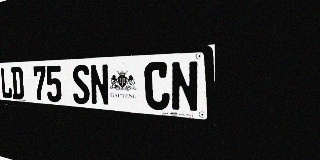5: (46, 65, 62, 103)
7: (32, 66, 47, 101)
C: (144, 62, 170, 111)
D: (11, 67, 24, 100)
L: (0, 67, 12, 99)
N: (170, 60, 199, 113), (90, 64, 110, 106)
S: (72, 64, 90, 105)
